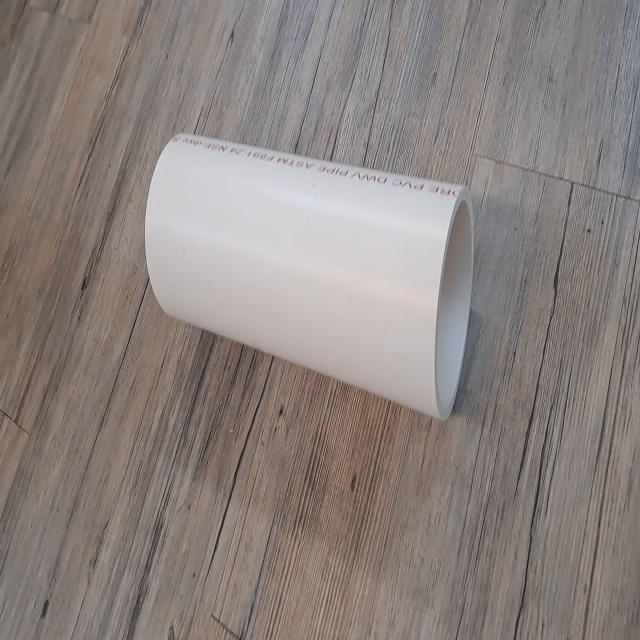CORAL: (143, 126, 481, 434)
